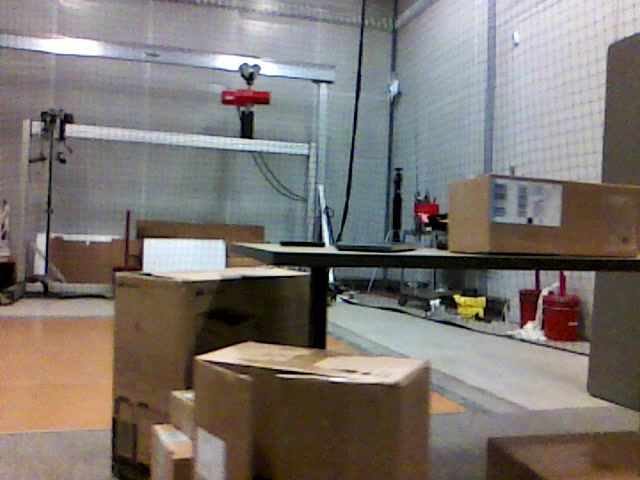box: (114, 273, 319, 480), (192, 343, 427, 480), (450, 176, 640, 255), (486, 433, 640, 479)
